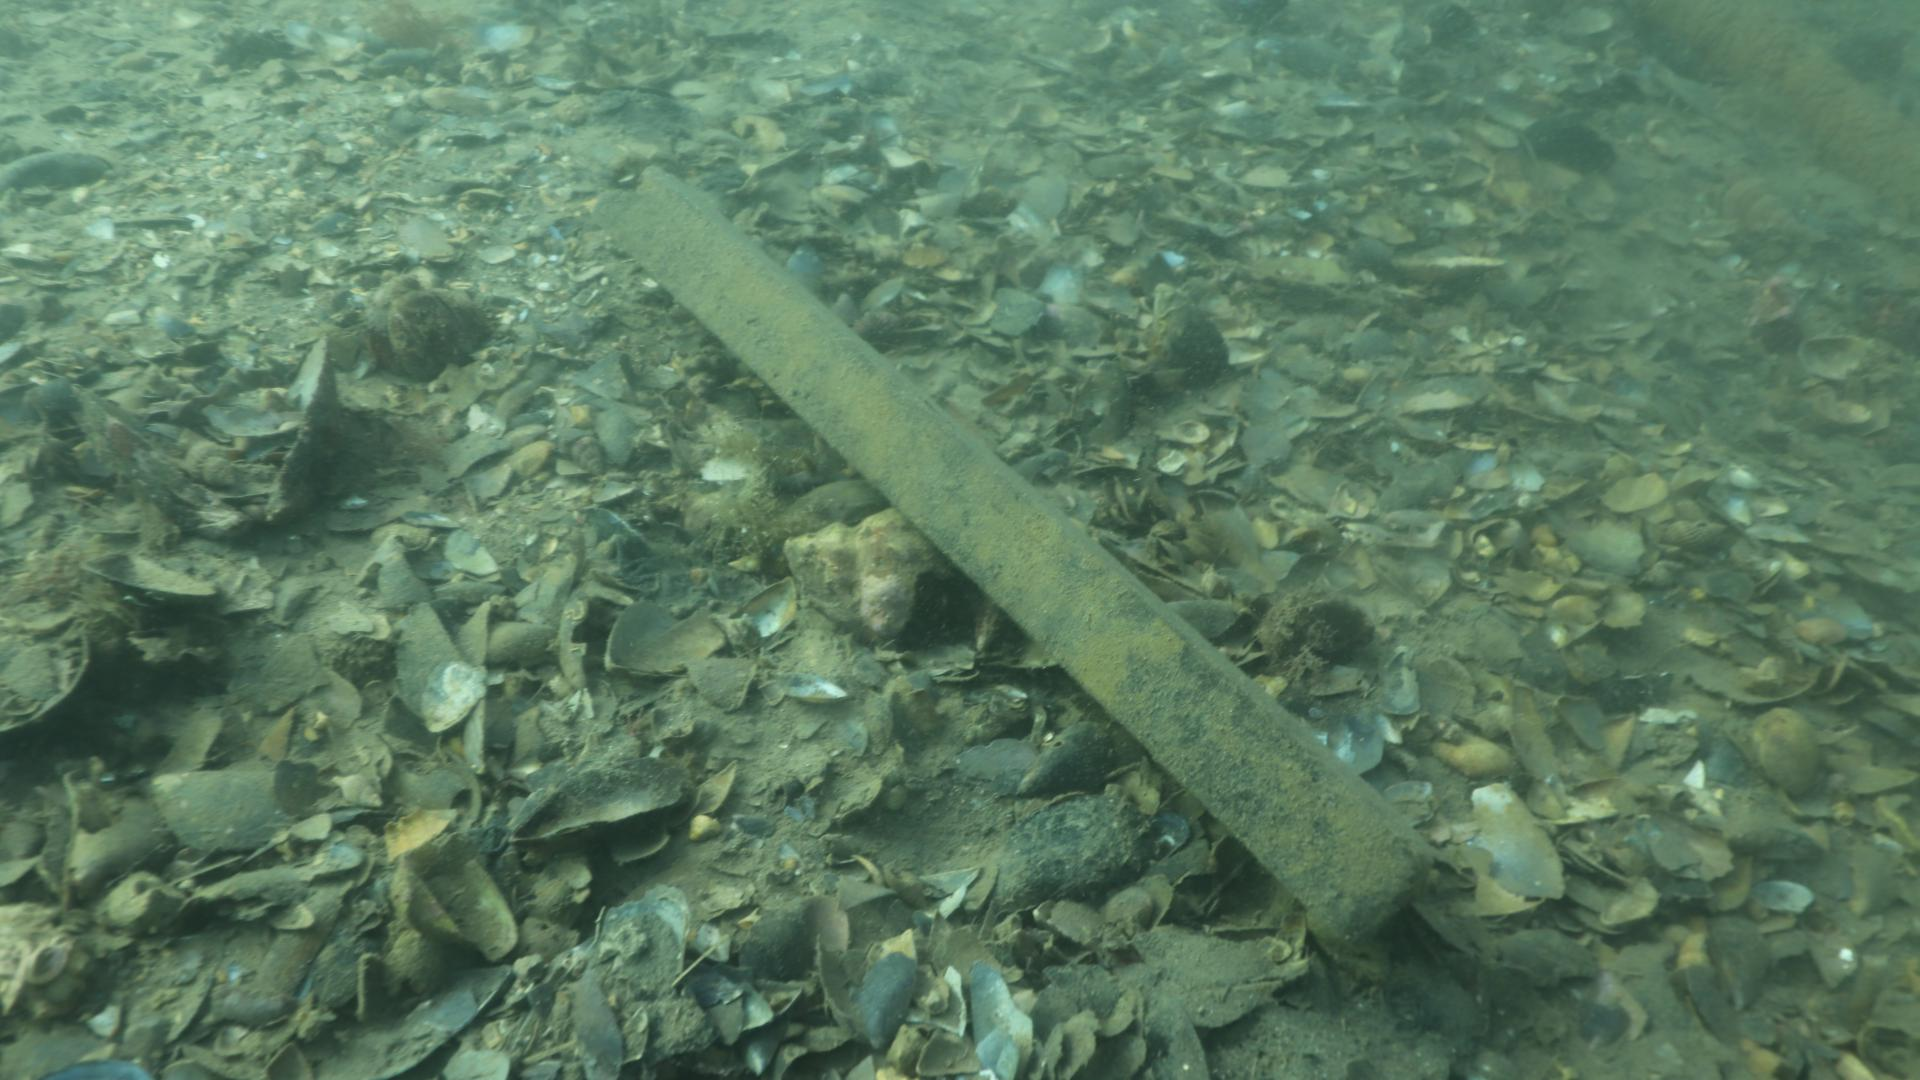wood: (587, 160, 1439, 952)
